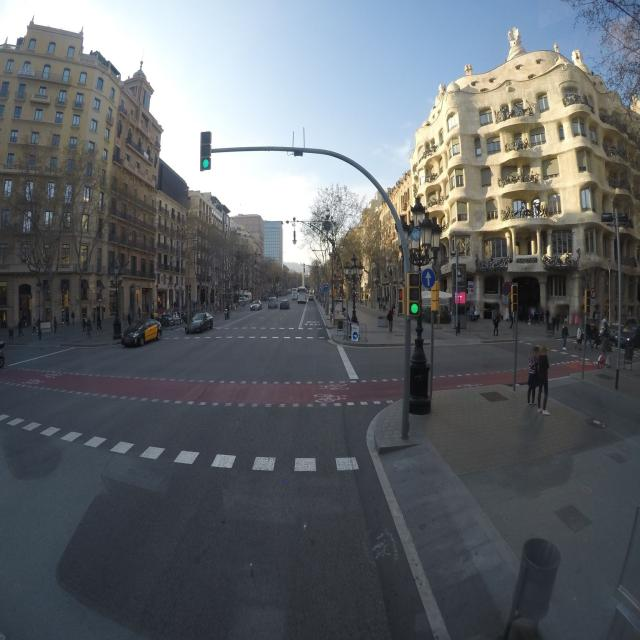car: (121, 317, 162, 348), (185, 311, 214, 334), (468, 306, 480, 322), (296, 290, 308, 304), (279, 296, 291, 310), (250, 300, 262, 311), (268, 296, 278, 309)
